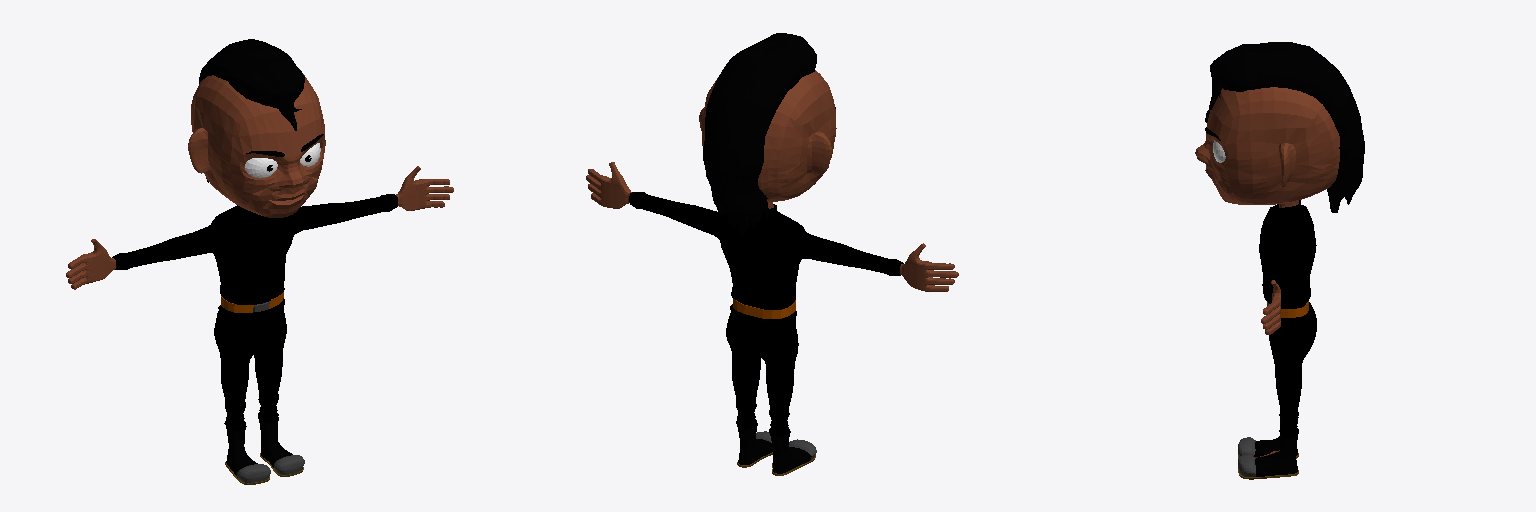
The model's file is RamonRigWeightHandleSansskin.obj.
3 renders of one model, left to right at view 1: azimuth 30°, elevation 25°; view 2: azimuth 150°, elevation 25°; view 3: azimuth 270°, elevation 25°, orthographic.
Visible parts, largest first — view 1: JumpSuit pCube51 polySurface1, Body pCube51 polySurface1, Hair polySurface1, Boots polySurface1, eyes polySurface1; view 2: JumpSuit pCube51 polySurface1, Hair polySurface1, Body pCube51 polySurface1, Boots polySurface1, Belt polySurface1; view 3: Body pCube51 polySurface1, Hair polySurface1, JumpSuit pCube51 polySurface1, Boots polySurface1.
Boxes of the visible parts, <box> form: JumpSuit pCube51 polySurface1: <box>112,194,397,430</box>; Body pCube51 polySurface1: <box>66,74,453,289</box>; Hair polySurface1: <box>199,39,304,182</box>; Boots polySurface1: <box>225,417,304,484</box>; eyes polySurface1: <box>245,143,320,177</box>; JumpSuit pCube51 polySurface1: <box>629,192,903,436</box>; Hair polySurface1: <box>703,33,816,235</box>; Body pCube51 polySurface1: <box>586,70,958,467</box>; Boots polySurface1: <box>737,423,816,475</box>; Belt polySurface1: <box>733,299,795,318</box>; Body pCube51 polySurface1: <box>1195,87,1339,457</box>; Hair polySurface1: <box>1209,42,1364,212</box>; JumpSuit pCube51 polySurface1: <box>1259,200,1316,437</box>; Boots polySurface1: <box>1238,417,1298,479</box>.
Size of the model in its own units: 17.62 by 18.52 by 6.83.